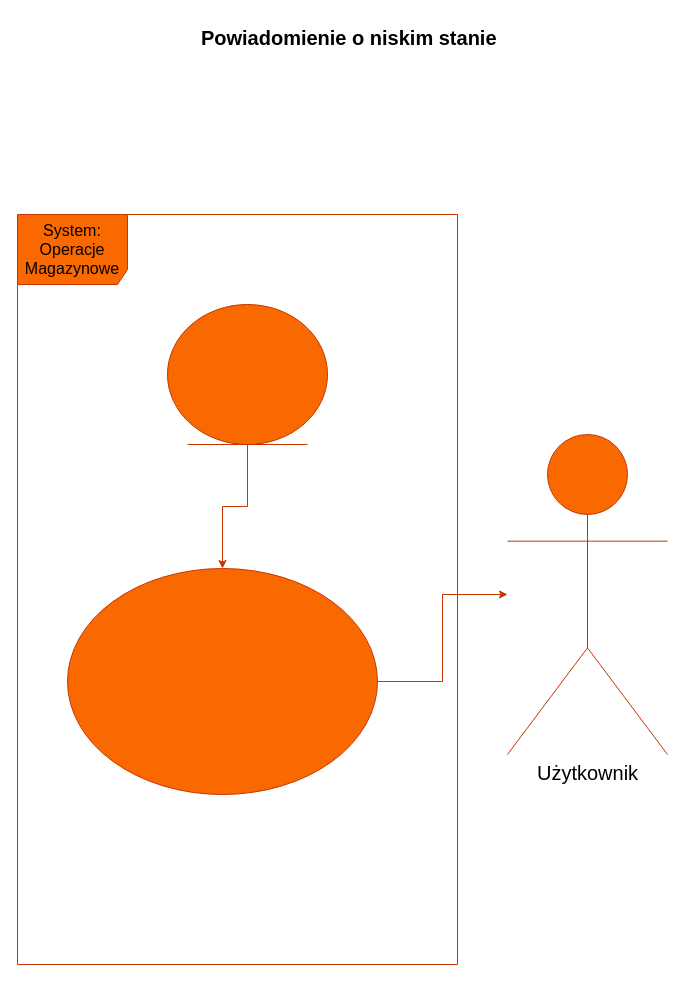
The diagram is 685 pixels wide and 982 high, and some of its shapes have lost their labels. Each missing label, with the box of its shape:
Automatyczne powiadomienie o niskim stanie: (66, 568, 378, 794)
System: (166, 304, 328, 444)
